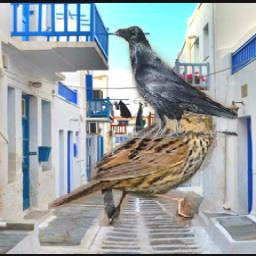Crow: (114, 25, 239, 138)
Sparrow: (48, 93, 217, 227)
